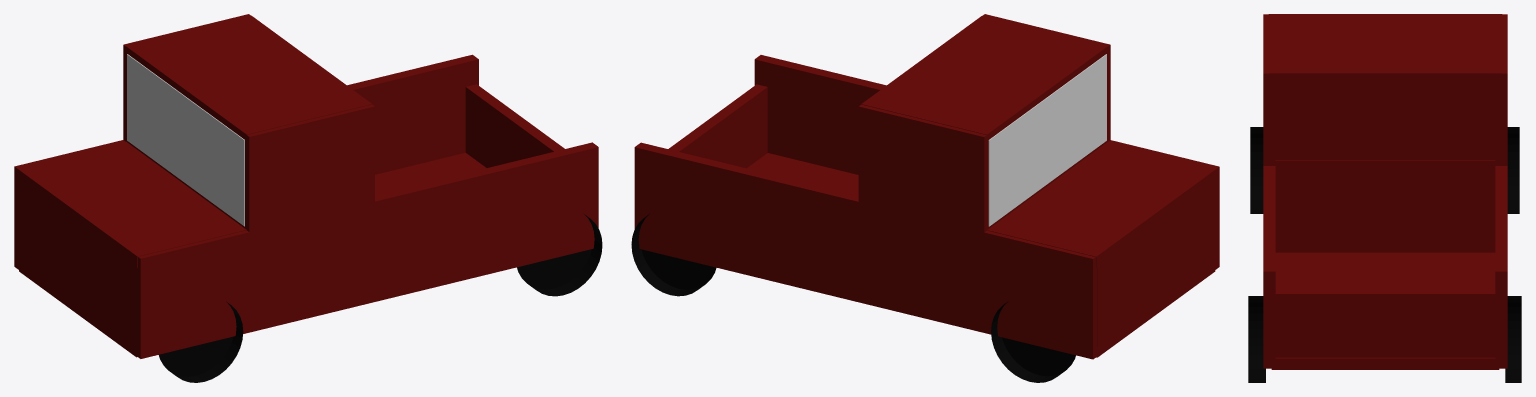
File: truck1.glb
3 views of the same model, side by side, from view 1: azimuth 30°, elevation 25°; view 2: azimuth 150°, elevation 25°; view 3: azimuth 270°, elevation 25° (orthographic). The views are drawn at different scales.
Visible parts, largest first — view 1: Cube.001, Cube.007, Cube.003, Cube.005, Cube.002, Cube.011, Cube.010, Cube.009, Cube, Circle.003, Circle.001, Cube.006; view 2: Cube.002, Cube.007, Cube.003, Cube.006, Cube.001, Cube.011, Cube.010, Cube.009, Cube, Circle.002, Circle, Cube.005; view 3: Cube.008, Cube.007, Cube.009, Cube, Cube.004, Cube.002, Cube.001, Cube.006, Cube.005, Circle.003, Circle.002, Circle.001 (+1 smaller).
Part boxes in pixels (box(x1,y1,x2,y2)): Cube.001: box(134, 142, 598, 358); Cube.007: box(126, 15, 371, 137); Cube.003: box(16, 141, 246, 267); Cube.005: box(243, 104, 374, 236); Cube.002: box(14, 54, 478, 271); Cube.011: box(127, 54, 244, 226); Cube.010: box(18, 181, 136, 345); Cube.009: box(465, 84, 564, 167); Cube: box(19, 152, 486, 357); Circle.003: box(517, 214, 602, 296); Circle.001: box(159, 301, 243, 382); Cube.006: box(123, 14, 250, 142); Cube.002: box(634, 142, 1097, 359); Cube.007: box(861, 15, 1107, 145); Cube.003: box(987, 141, 1217, 268); Cube.006: box(858, 104, 988, 237); Cube.001: box(754, 55, 1219, 271); Cube.011: box(988, 54, 1106, 226); Cube.010: box(1097, 181, 1215, 346); Cube.009: box(668, 84, 767, 168); Cube: box(747, 153, 1215, 357); Circle.002: box(631, 214, 716, 296); Circle: box(991, 301, 1075, 382); Cube.005: box(983, 14, 1110, 142); Cube.008: box(1275, 84, 1495, 252); Cube.007: box(1268, 14, 1502, 84); Cube.009: box(1275, 288, 1495, 357); Cube: box(1271, 252, 1499, 369); Cube.004: box(1271, 160, 1499, 171); Cube.002: box(1495, 166, 1507, 368); Cube.001: box(1263, 166, 1275, 368); Cube.006: box(1495, 14, 1507, 165); Cube.005: box(1263, 14, 1275, 165); Circle.003: box(1248, 296, 1265, 382); Circle.002: box(1505, 296, 1521, 382); Circle.001: box(1250, 127, 1263, 213).
Size of the model in its own units: 8.22 by 3.9 by 4.39.
